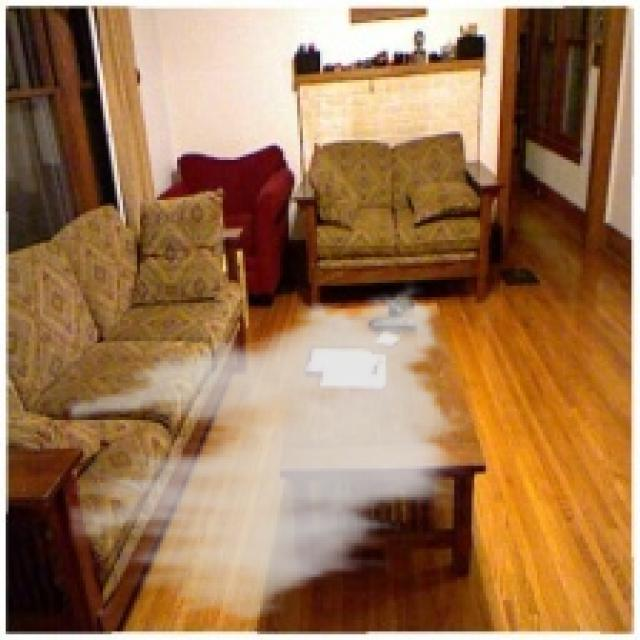Smoke: (69, 277, 472, 632)
